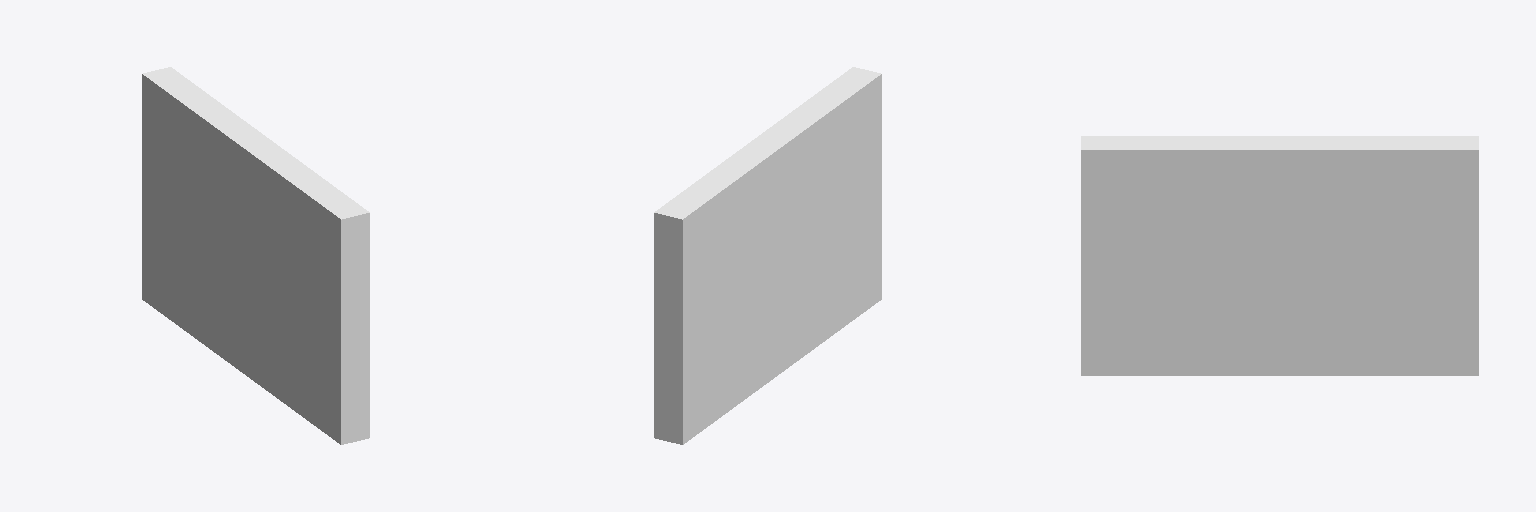
The model's file is tv:rick-and-morty.obj.
3 renders of one model, left to right at view 1: azimuth 30°, elevation 25°; view 2: azimuth 150°, elevation 25°; view 3: azimuth 270°, elevation 25°, orthographic.
Visible parts, largest first — view 1: tv:Rick-and-Morty; view 2: tv:Rick-and-Morty; view 3: tv:Rick-and-Morty.
Part boxes in pixels (bbox=[...]): tv:Rick-and-Morty: bbox=[142, 67, 369, 444]; tv:Rick-and-Morty: bbox=[654, 67, 881, 444]; tv:Rick-and-Morty: bbox=[1081, 136, 1478, 375].
Bounding box in the file's own units: 2 × 15 × 24.